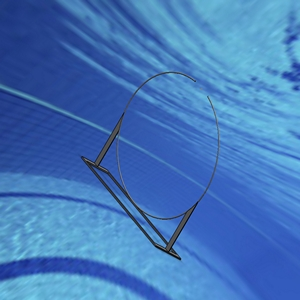circle: (78, 68, 222, 261)
